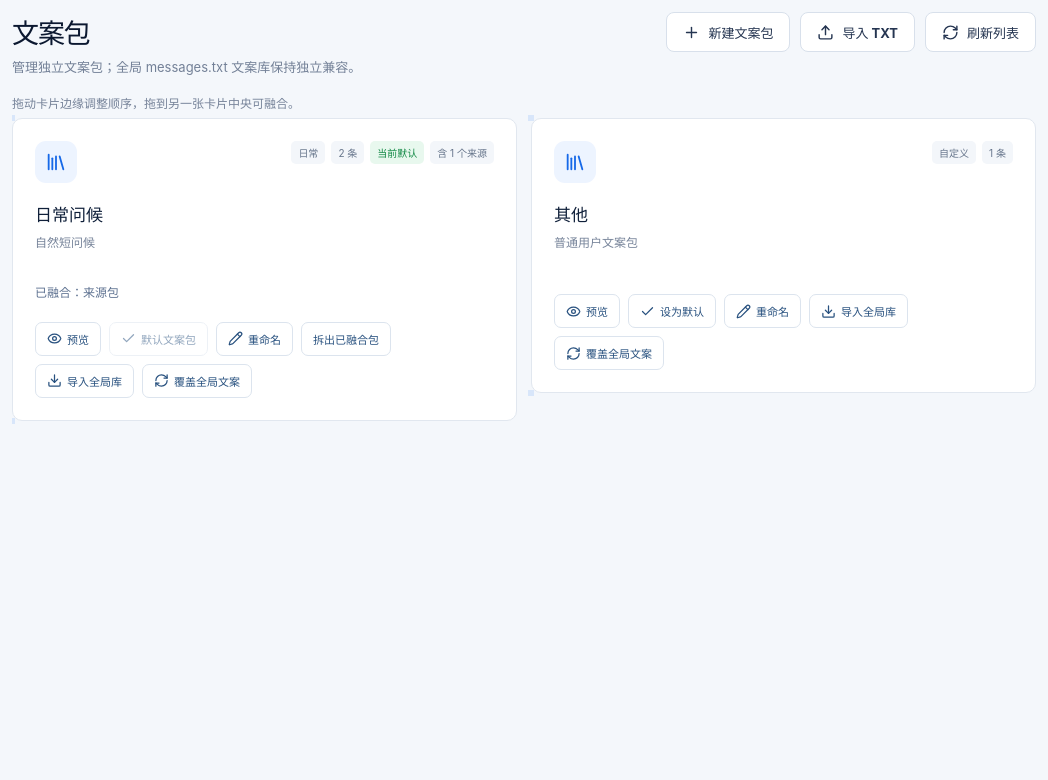
it: lists provenance, previews a pack, and keeps global import action
Expected: the text "已融合：来源包" is shown, [35,285,119,300]
Click the button "预览" in the row of "拆出已融合包".
click(68, 339)  # box [35,322,101,356]
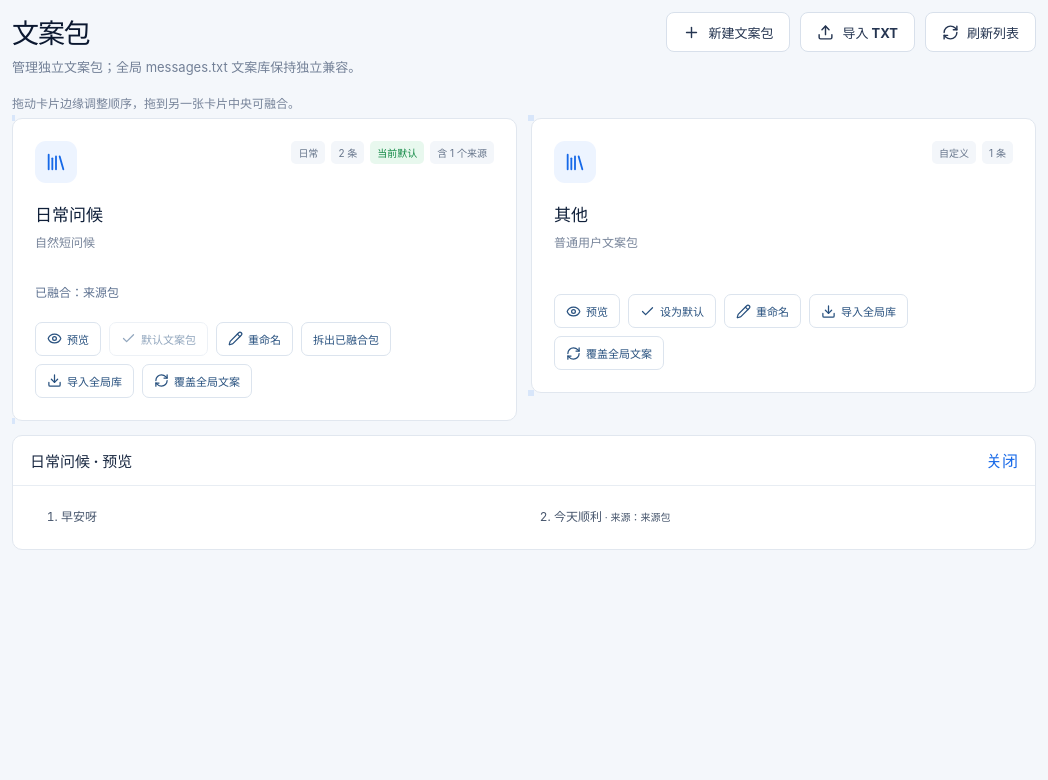
Now the list item "今天顺利 · 来源：来源包" is shown, box [554,509,670,524]
Now the text "· 来源：来源包" is shown, box [602,511,670,523]
Click the button "导入全局库" below "拆出已融合包".
click(84, 381)  # box [35,364,134,398]
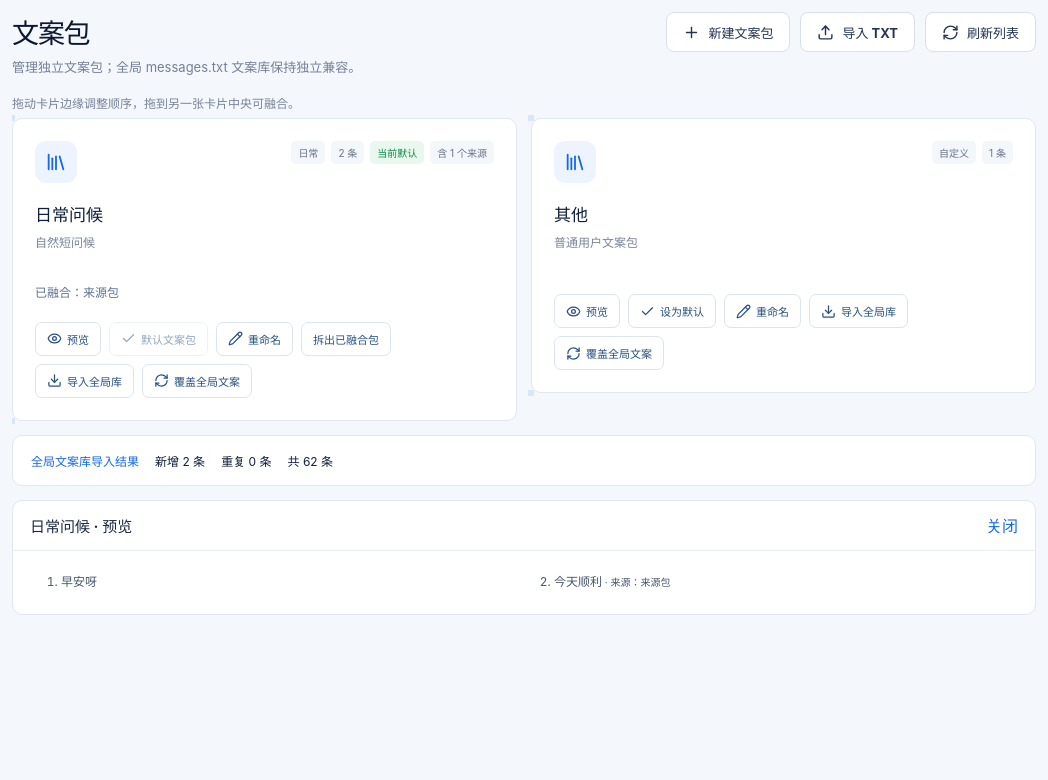
Now the text "新增 2 条" is shown, box [155,452,205,469]
